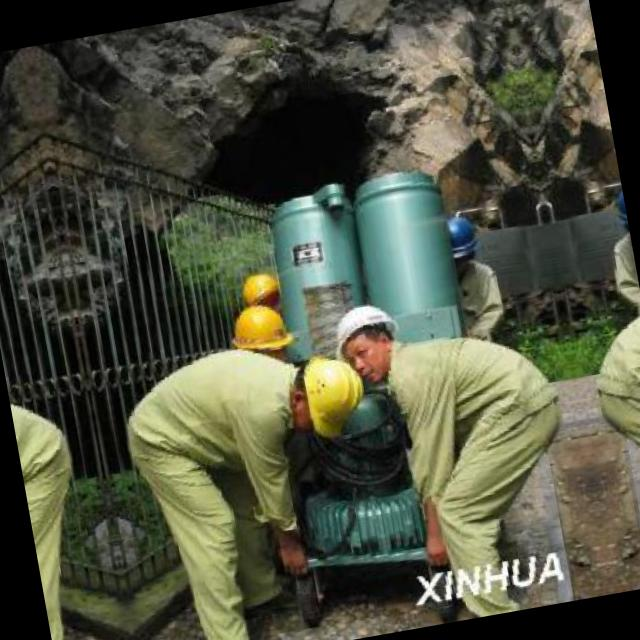helmet: (315, 288, 413, 392), (286, 346, 372, 448), (440, 210, 482, 272), (608, 182, 630, 242)
